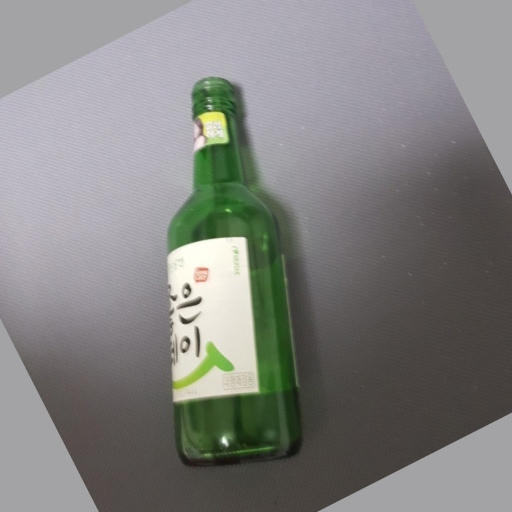Glass_0: (156, 76, 307, 472)
